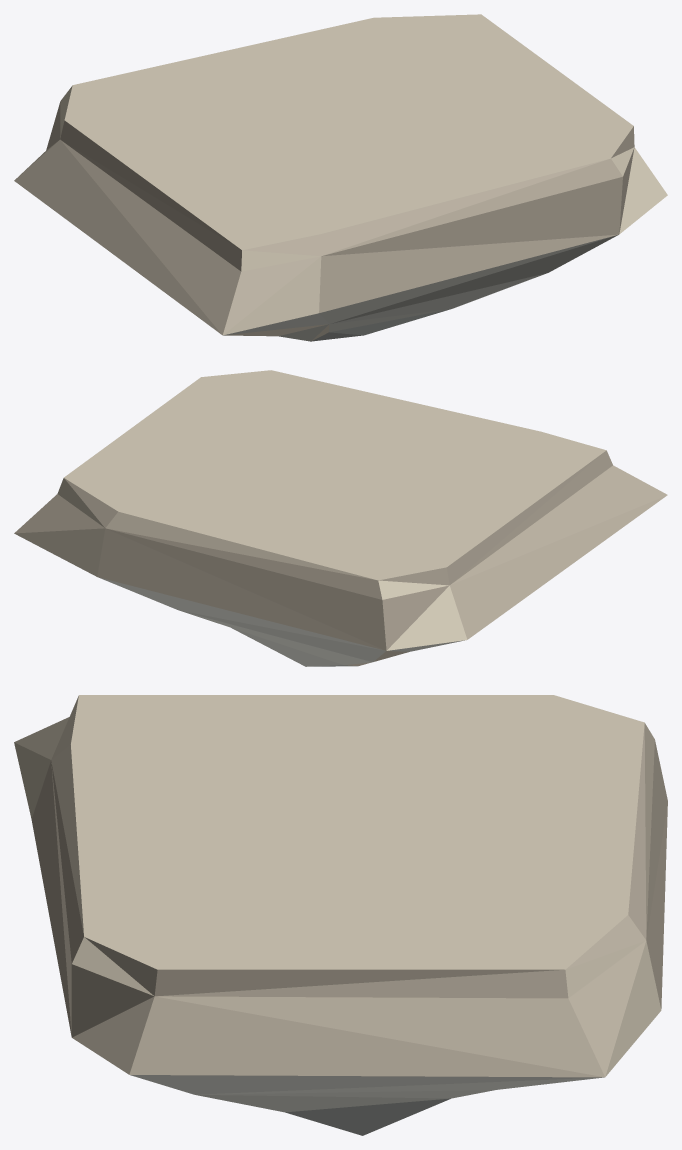
The model's file is Plataforma3.fbx.
3 views of the same model, one above another, from view 1: azimuth 30°, elevation 25°; view 2: azimuth 150°, elevation 25°; view 3: azimuth 270°, elevation 25° (orthographic). The views are drawn at different scales.
Visible parts, largest first — view 1: PlataformaPedra_03; view 2: PlataformaPedra_03; view 3: PlataformaPedra_03.
Boxes of the visible parts, bbox=[...] form: PlataformaPedra_03: bbox=[14, 14, 667, 341]; PlataformaPedra_03: bbox=[14, 370, 667, 666]; PlataformaPedra_03: bbox=[14, 695, 667, 1135].
Size of the model in its own units: 845 by 349 by 708.
